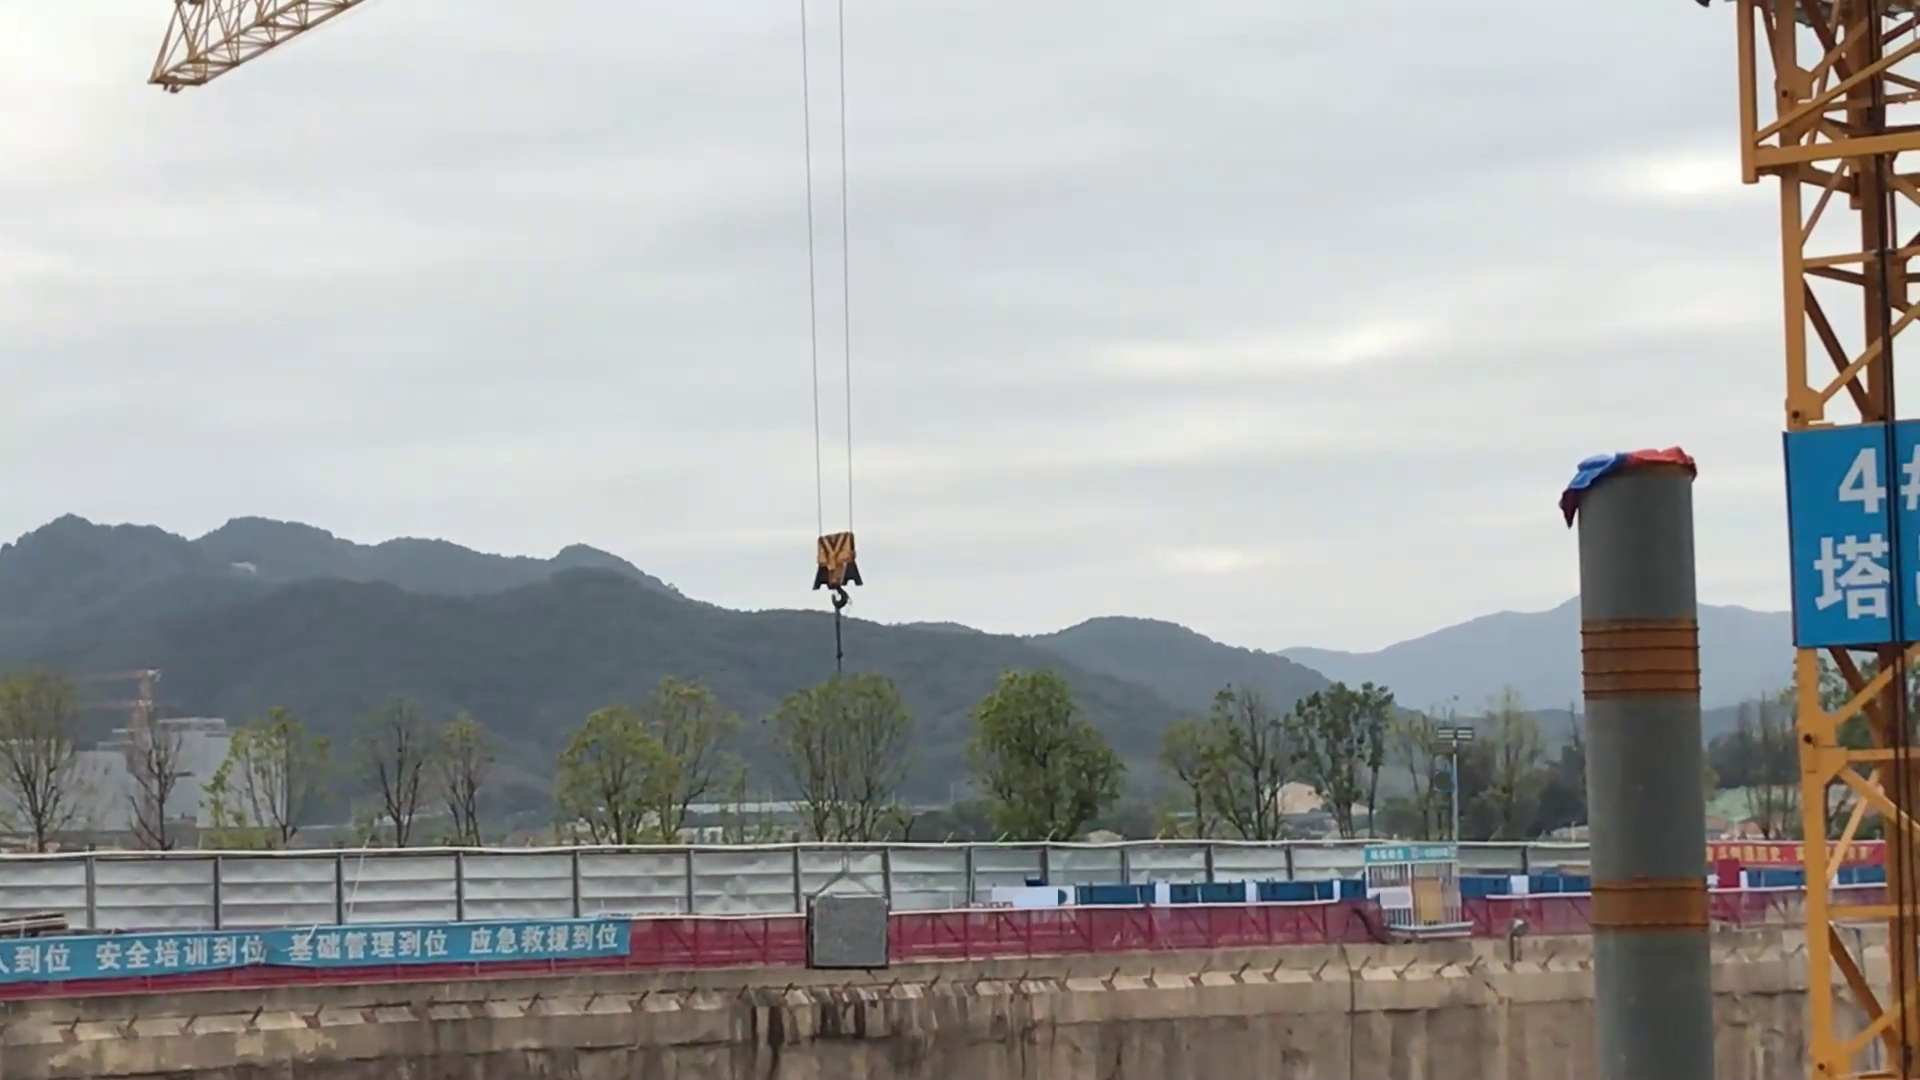fence: (3, 884, 1920, 1011)
hook: (802, 530, 866, 621)
scaffold: (804, 890, 891, 967)
slogan: (15, 918, 626, 957), (1701, 837, 1873, 869)
